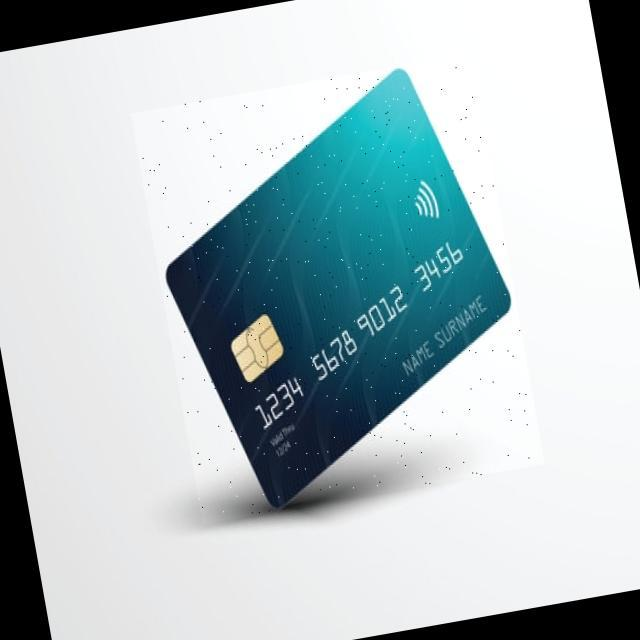payment_card: (162, 66, 512, 509)
